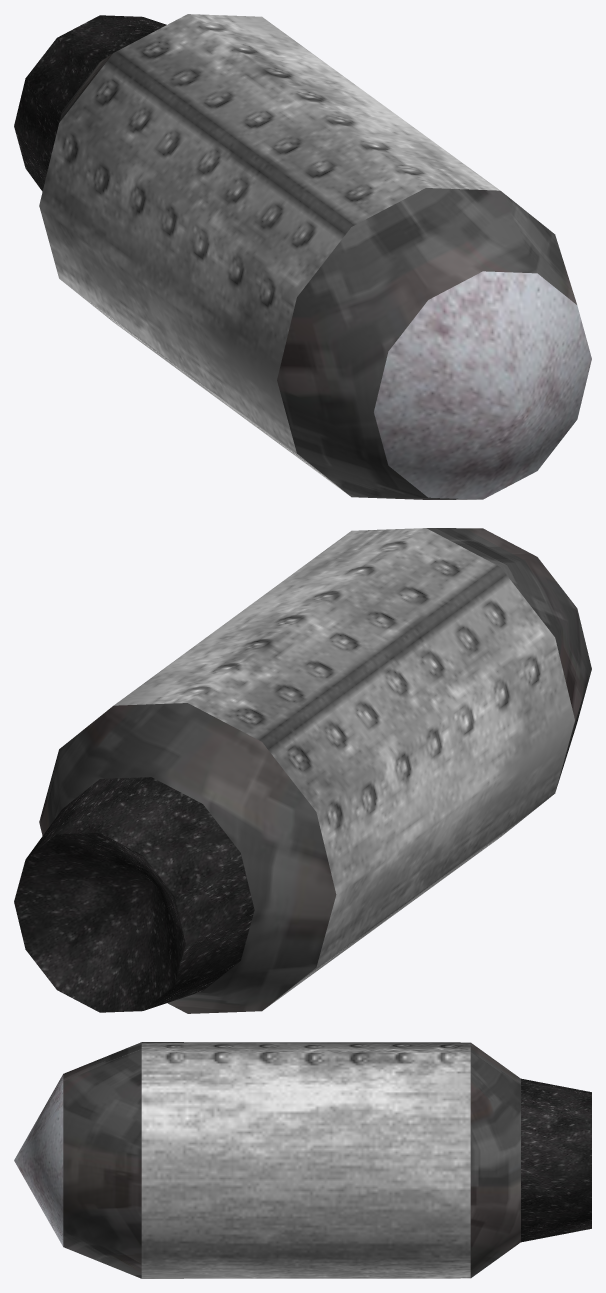
File: missileSmall.obj
The picture shows the model from 3 angles, top to bottom: view 1: azimuth 30°, elevation 25°; view 2: azimuth 150°, elevation 25°; view 3: azimuth 270°, elevation 25°; orthographic projection. The views are drawn at different scales.
Visible parts, largest first — view 1: Cylinder; view 2: Cylinder; view 3: Cylinder.
Boxes of the visible parts, x1=… form: Cylinder: x1=14, y1=14, x2=591, y2=499; Cylinder: x1=14, y1=528, x2=591, y2=1013; Cylinder: x1=14, y1=1042, x2=591, y2=1278.
Size of the model in its own units: 0.105 by 0.105 by 0.2553.
Materials: 1 (1 with a texture image).
